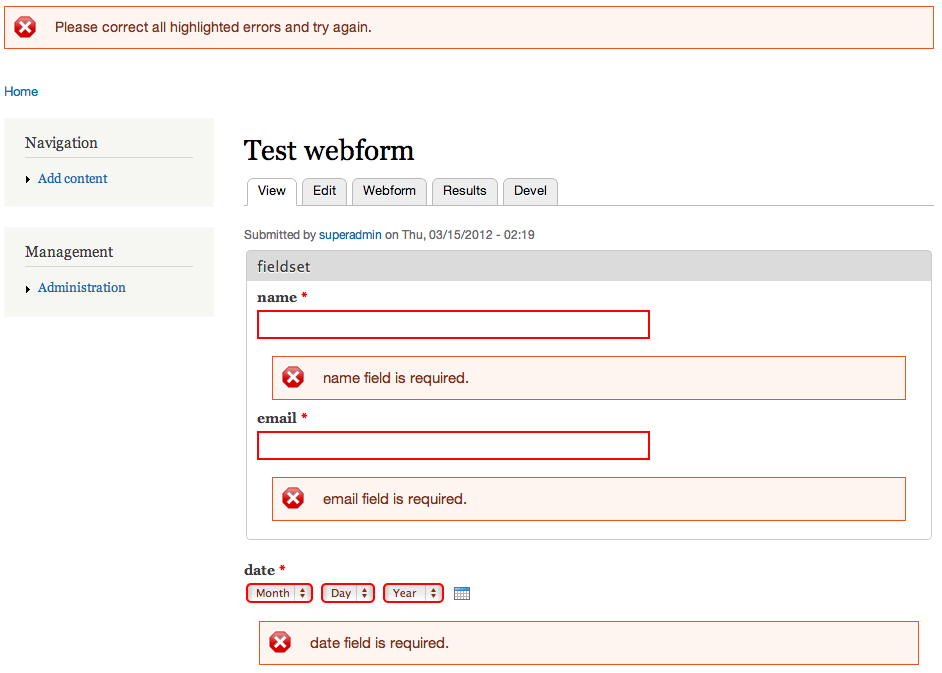error_field: (257, 309, 652, 340), (255, 430, 652, 460), (245, 582, 314, 604), (383, 581, 444, 604), (321, 581, 376, 604)
error_message: (52, 17, 371, 36), (322, 367, 473, 388), (321, 490, 470, 509), (312, 634, 452, 651)
